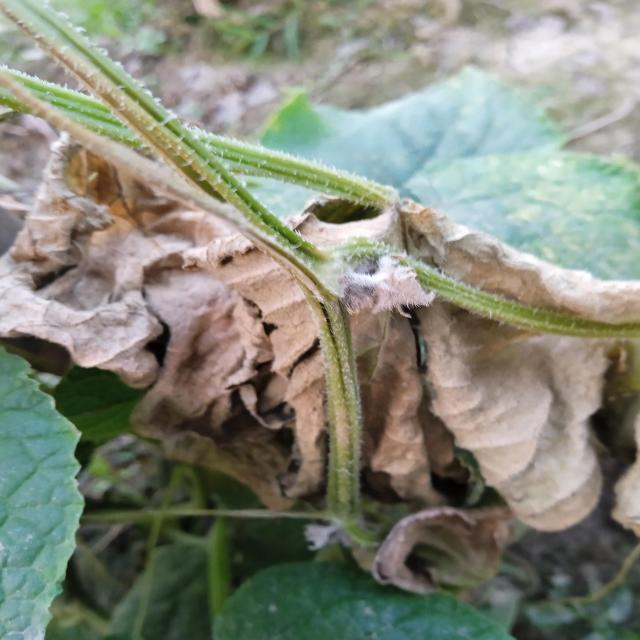cucumber_bacterial: (428, 295, 638, 547), (223, 206, 421, 459), (0, 144, 174, 431)
